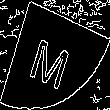M_N: (31, 23, 79, 87)
